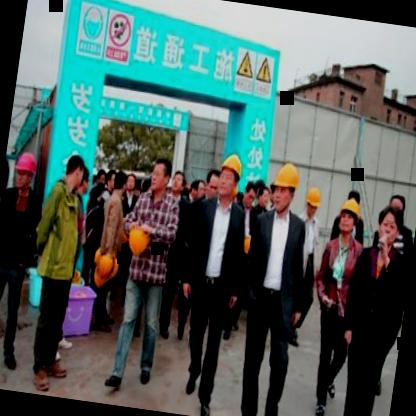head: (60, 151, 92, 199), (374, 200, 404, 250), (145, 151, 173, 197), (202, 163, 224, 204), (166, 166, 188, 202), (240, 178, 259, 209), (112, 166, 130, 198), (190, 174, 208, 204), (255, 182, 271, 210), (121, 170, 138, 196), (104, 164, 119, 190)
helmet: (269, 160, 302, 214), (218, 150, 247, 202), (336, 193, 366, 242), (12, 150, 39, 198), (302, 180, 326, 226)
